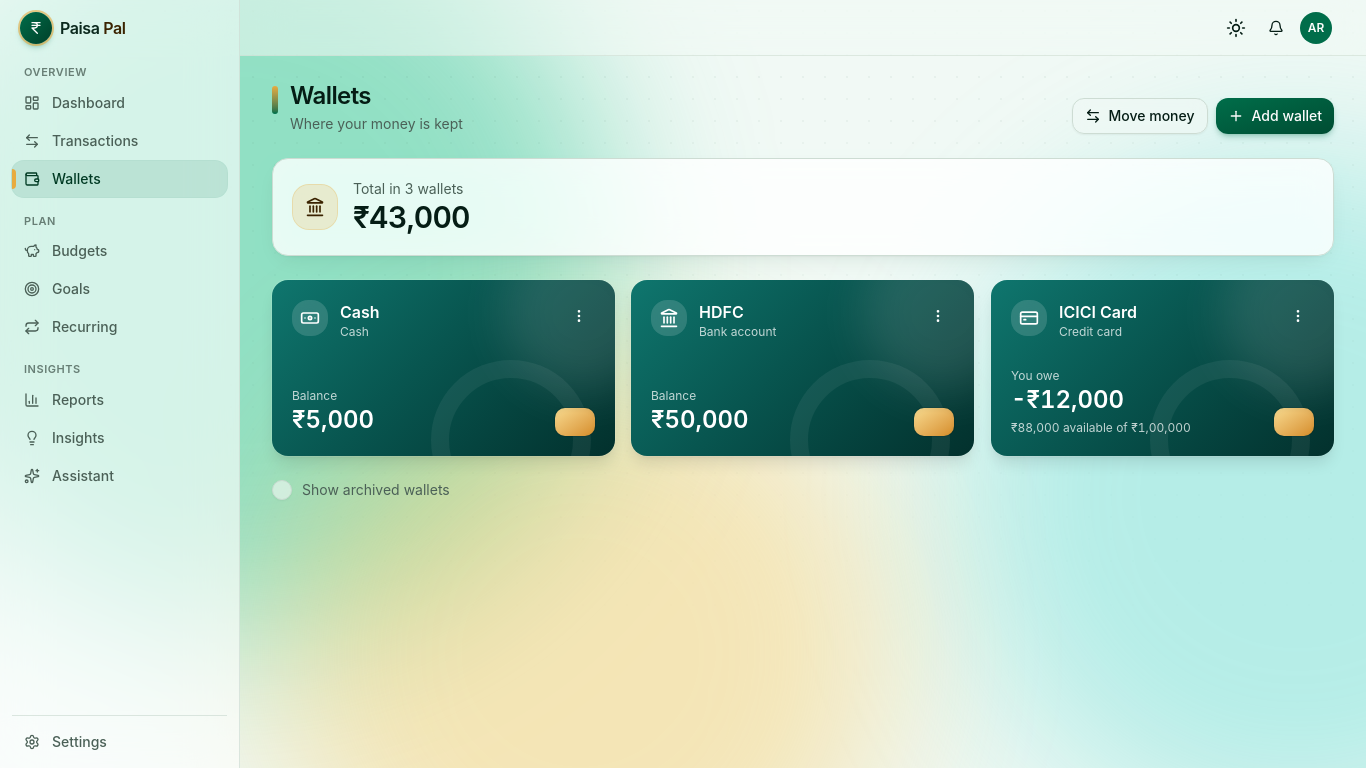
Scenario: wallets page › shows a duplicate name under the name field
The width and height of the screenshot is (1366, 768).
Click the button "Add wallet" at (1275, 116), box [1216,98,1334,134]
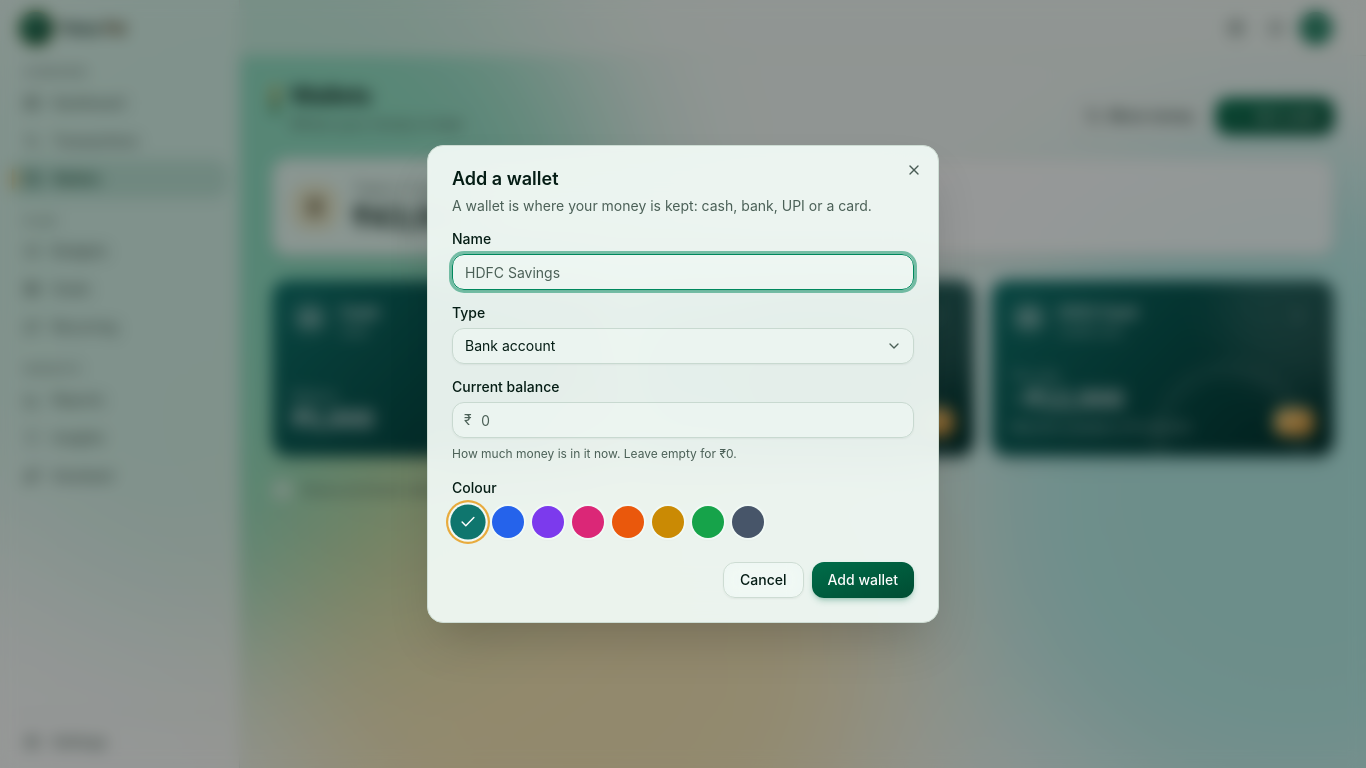
Type "cash" into the field labelled "Name" at (683, 272), box [452,254,914,290]
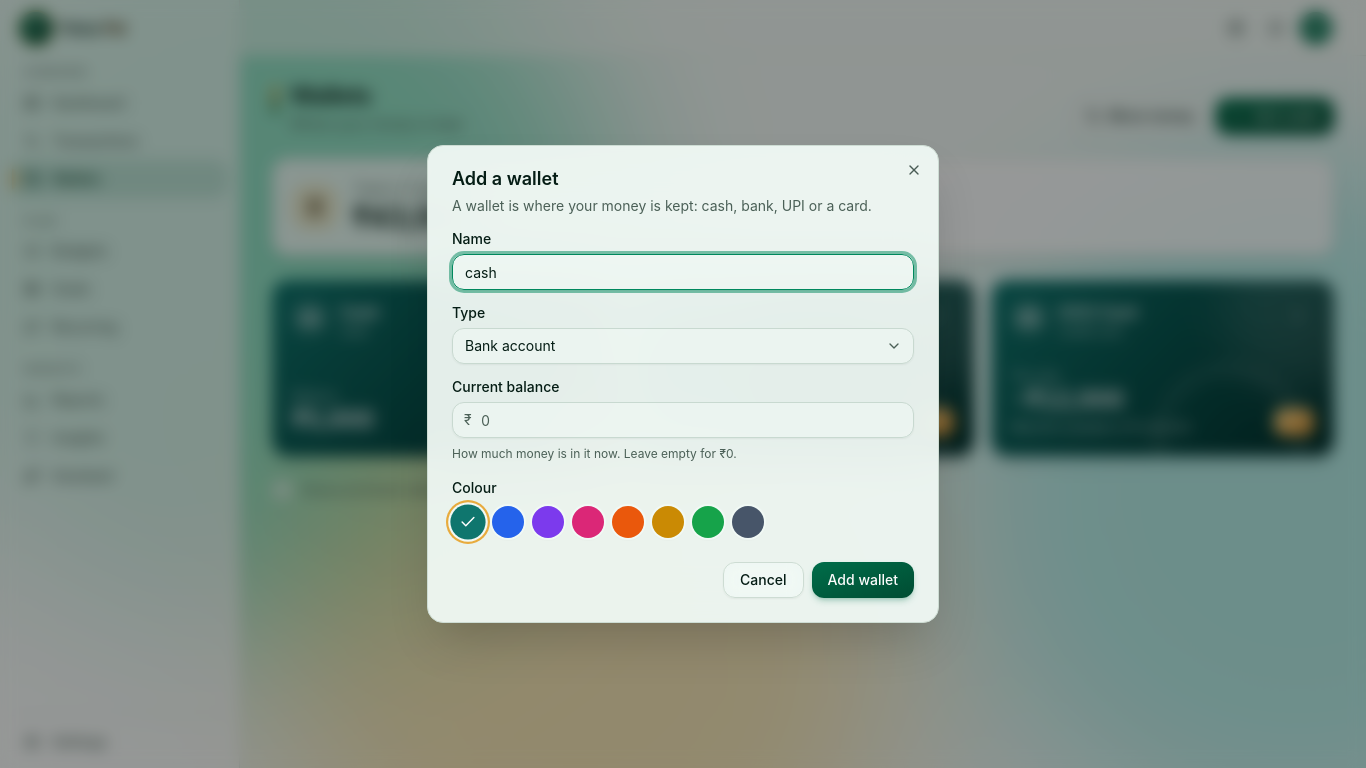
Click the button "Add wallet" at (863, 580), box [812,562,914,598]
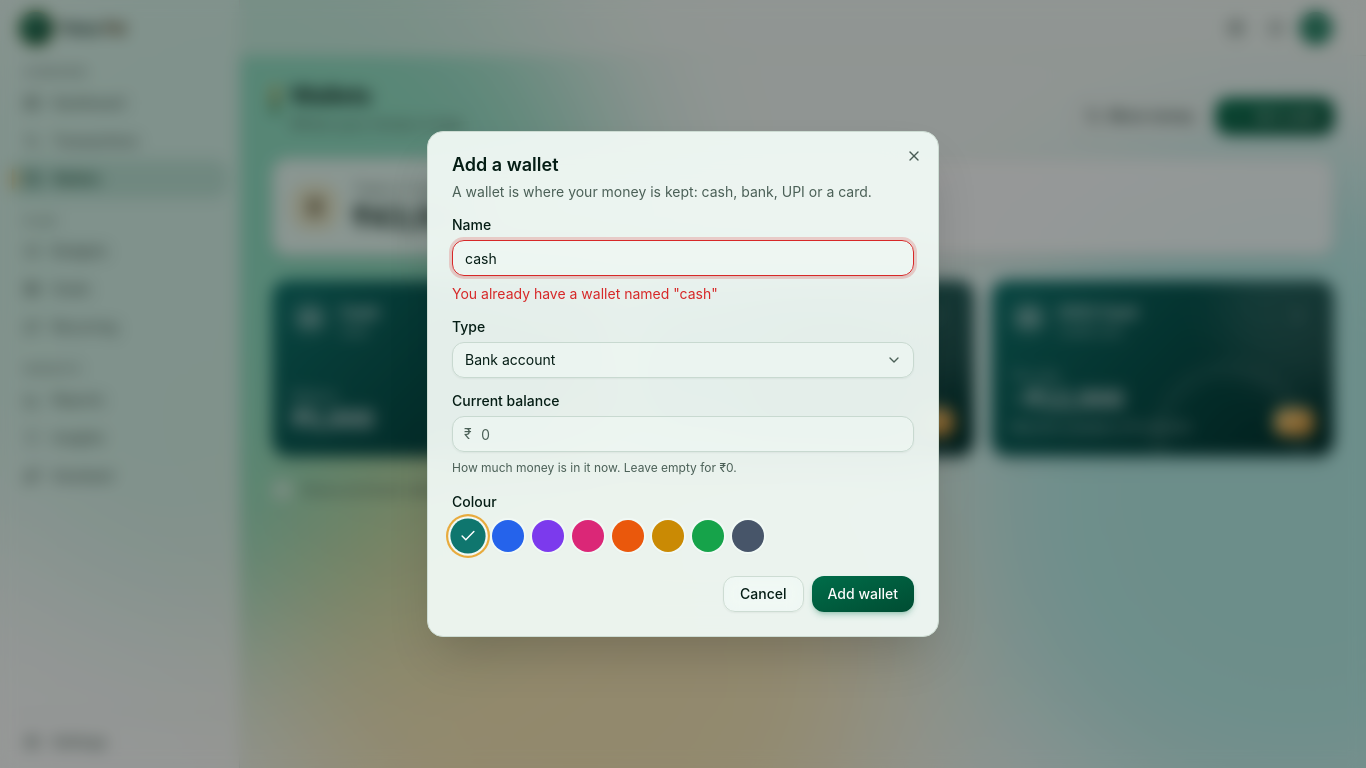
Expected: the text "You already have a wallet named \"cash\"" is shown, [452,285,718,302]
